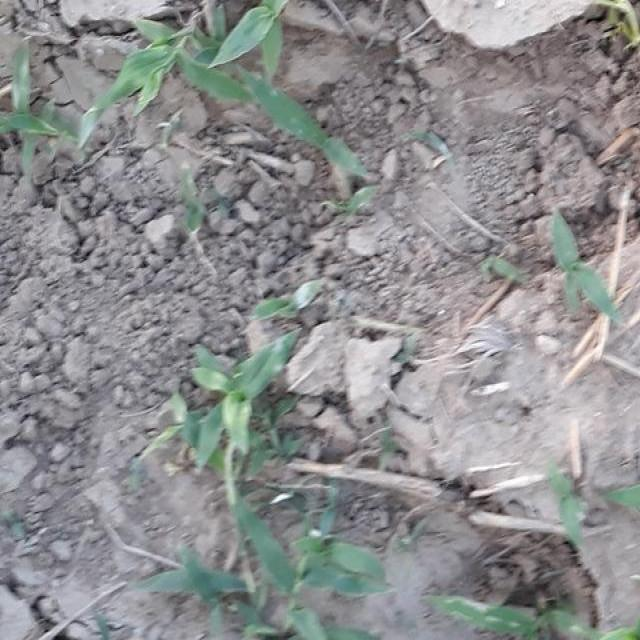weed: (152, 344, 382, 640), (65, 0, 392, 194), (542, 205, 624, 324), (6, 28, 68, 178), (462, 596, 626, 640), (540, 468, 639, 534), (245, 279, 336, 324), (476, 244, 523, 295), (169, 173, 208, 230), (399, 122, 452, 158)
